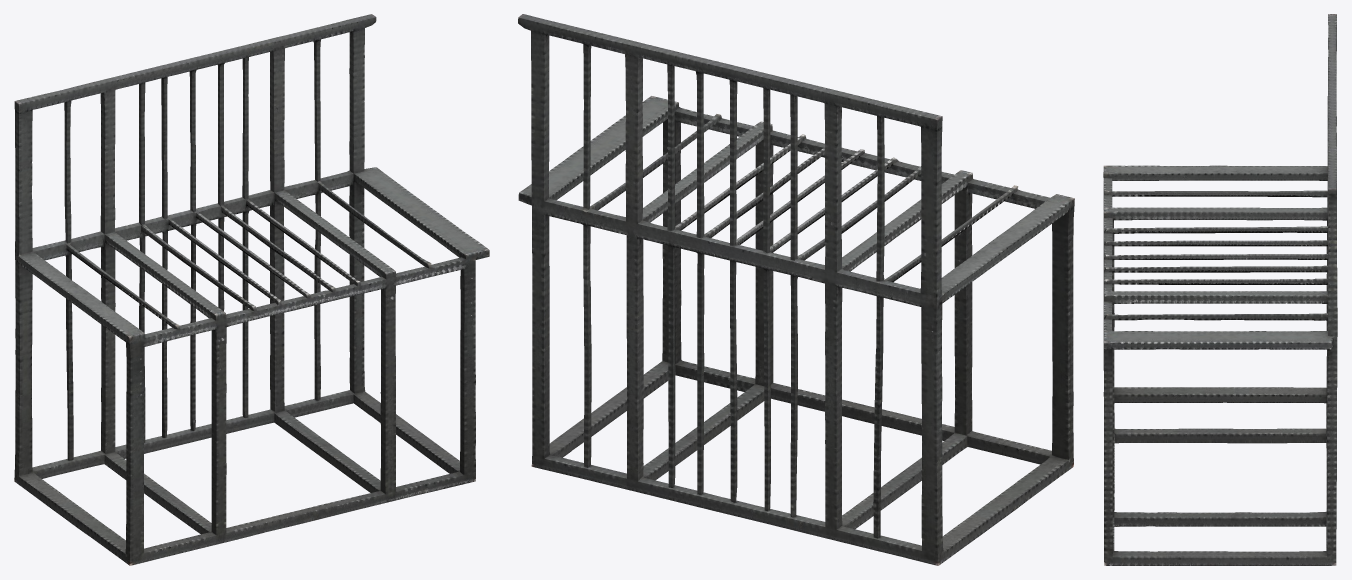
3 views of the same model, side by side, from view 1: azimuth 30°, elevation 25°; view 2: azimuth 150°, elevation 25°; view 3: azimuth 270°, elevation 25° (orthographic). The views are drawn at different scales.
Parts seen in each view (by area): view 1: bike-rack-tangle; view 2: bike-rack-tangle; view 3: bike-rack-tangle.
Boxes of the visible parts, x1=… form: bike-rack-tangle: x1=14, y1=14, x2=489, y2=565; bike-rack-tangle: x1=518, y1=14, x2=1074, y2=565; bike-rack-tangle: x1=1103, y1=14, x2=1337, y2=565.
Size of the model in its own units: 0.9932 by 0.9995 by 0.5547.
1 material, 1 textured.
